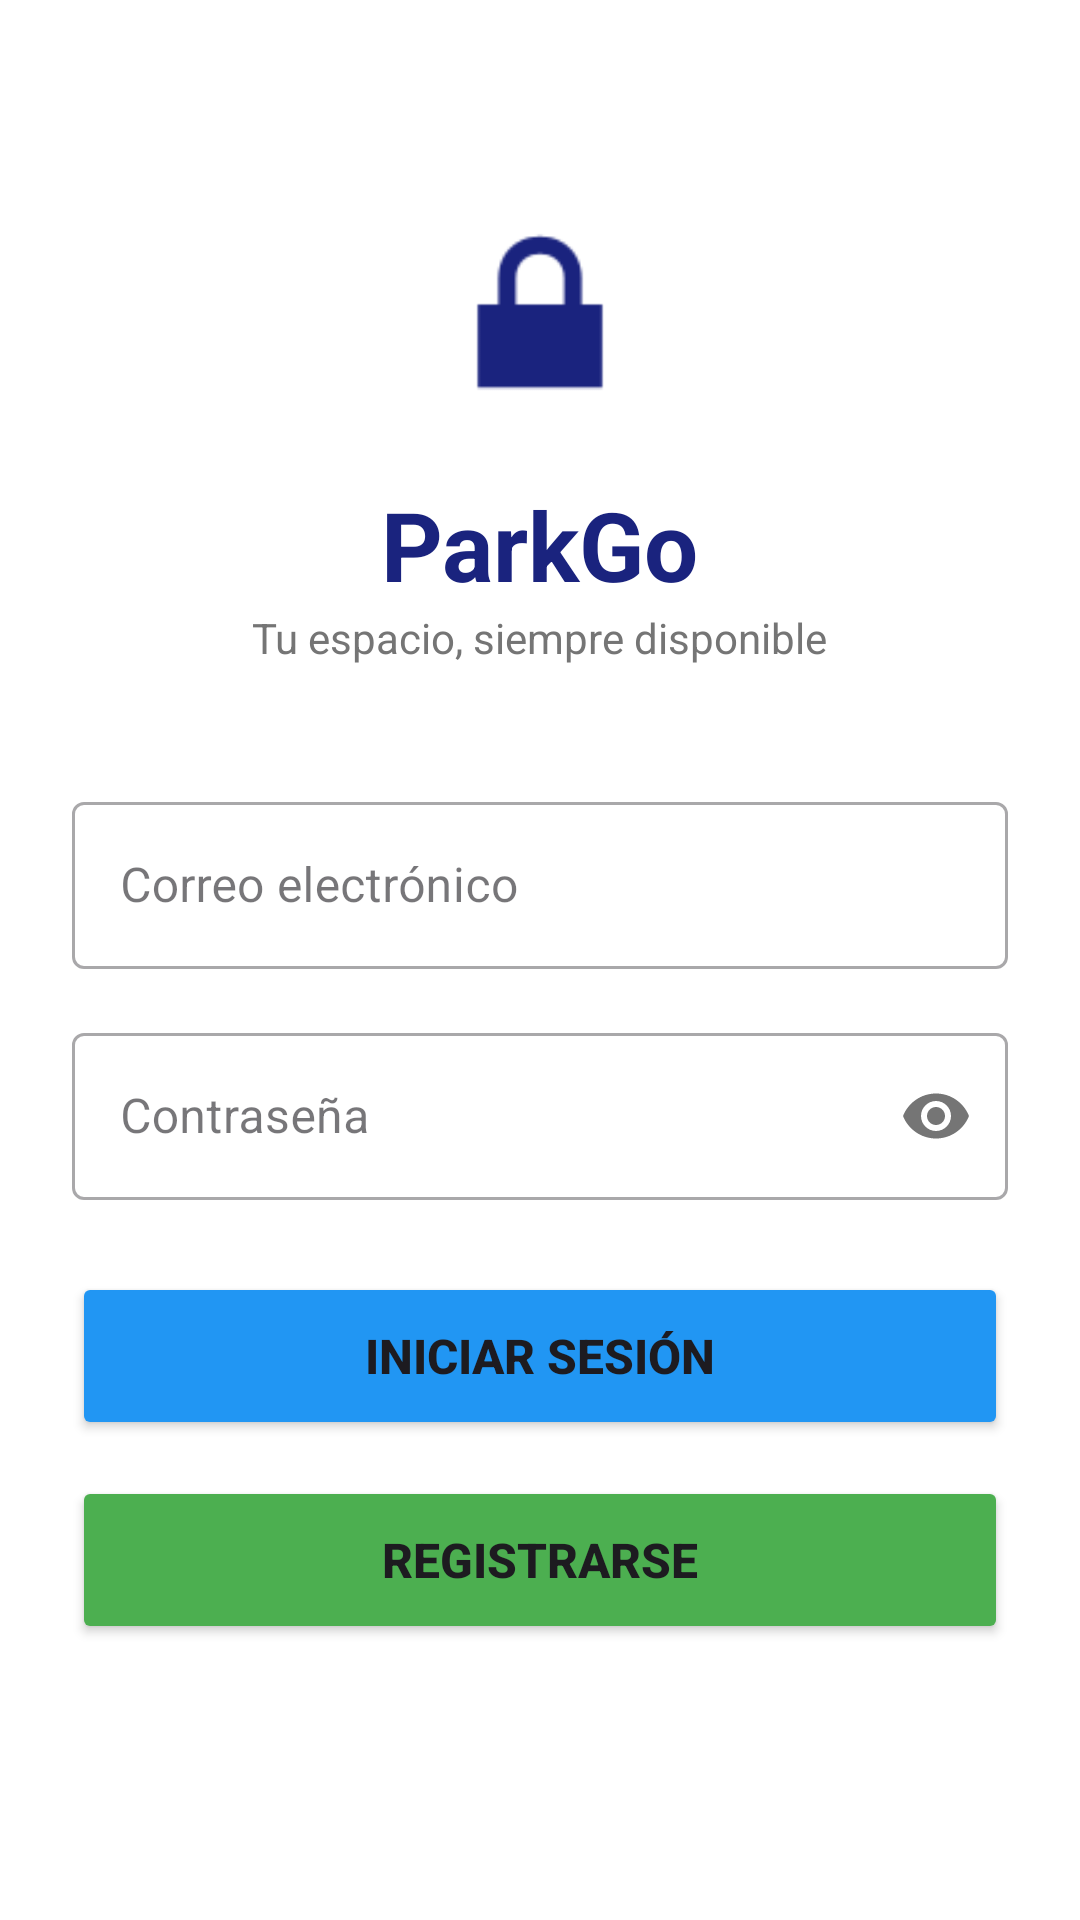

Icons on this 1080 x 1920 Android screen, each with its box as (x1, y1, x2, y2):
lock: (477, 235, 603, 389)
